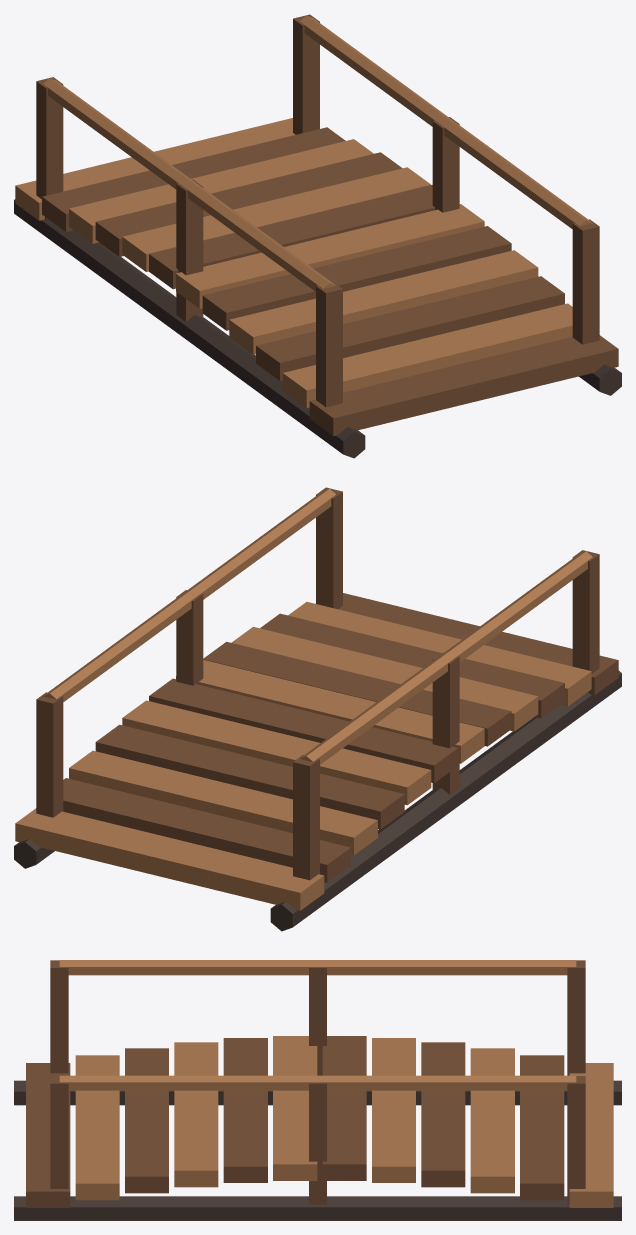
Rendered from mustek.glb.
3 views of the same model, one above another, from view 1: azimuth 30°, elevation 25°; view 2: azimuth 150°, elevation 25°; view 3: azimuth 270°, elevation 25° (orthographic). The views are drawn at different scales.
Visible parts, largest first — view 1: material_785239, material_ad7950, material_483b36; view 2: material_ad7950, material_785239, material_483b36; view 3: material_ad7950, material_785239, material_483b36.
Boxes of the visible parts, box(x1,y1,x2,y2) form: material_785239: box(36, 14, 618, 436); material_ad7950: box(15, 15, 592, 408); material_483b36: box(14, 199, 621, 458); material_ad7950: box(15, 488, 592, 910); material_785239: box(36, 487, 618, 882); material_483b36: box(14, 670, 621, 931); material_ad7950: box(59, 960, 613, 1207); material_785239: box(26, 960, 585, 1207); material_483b36: box(14, 1080, 621, 1220).
Bounding box in the file's own units: 2 × 1.05 × 4.
